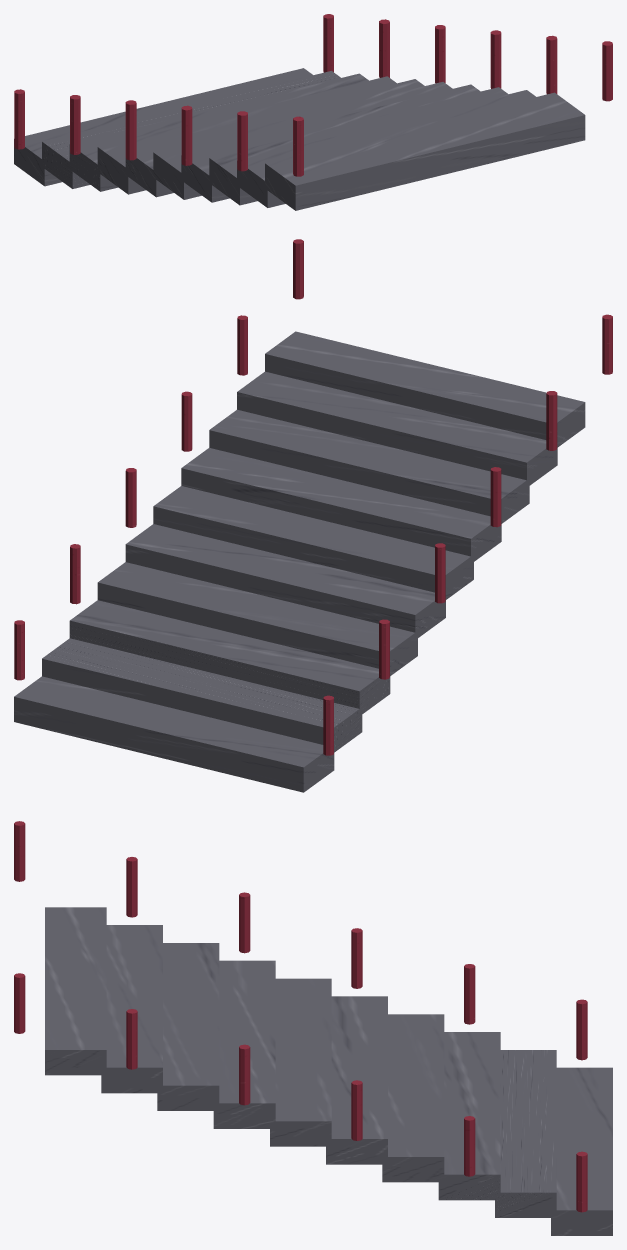
Rendered from shogun_stone_stairway_lod0.glb.
3 views of the same model, one above another, from view 1: azimuth 30°, elevation 25°; view 2: azimuth 150°, elevation 25°; view 3: azimuth 270°, elevation 25° (orthographic).
Visible parts, largest first — view 1: shogun_stone_stairway_009, shogun_stone_stairway_007, shogun_stone_stairway_008, shogun_stone_stairway_002, shogun_stone_stairway_001, shogun_stone_stairway_005, shogun_stone_stairway_003, shogun_stone_stairway_006, shogun_stone_stairway_000, shogun_stone_stairway_004, shogun_stone_stairway_012, shogun_stone_stairway_013 (+10 smaller); view 2: shogun_stone_stairway_000, shogun_stone_stairway_009, shogun_stone_stairway_006, shogun_stone_stairway_002, shogun_stone_stairway_008, shogun_stone_stairway_004, shogun_stone_stairway_001, shogun_stone_stairway_007, shogun_stone_stairway_005, shogun_stone_stairway_003; view 3: shogun_stone_stairway_009, shogun_stone_stairway_003, shogun_stone_stairway_005, shogun_stone_stairway_007, shogun_stone_stairway_001, shogun_stone_stairway_000, shogun_stone_stairway_004, shogun_stone_stairway_008, shogun_stone_stairway_006, shogun_stone_stairway_002, shogun_stone_stairway_012, shogun_stone_stairway_015 (+10 smaller).
Part boxes in pixels (x1,y1,x2,y2): shogun_stone_stairway_009: (265, 92, 585, 210); shogun_stone_stairway_007: (209, 87, 508, 205); shogun_stone_stairway_008: (237, 90, 535, 207); shogun_stone_stairway_002: (69, 73, 368, 191); shogun_stone_stairway_001: (42, 71, 340, 188); shogun_stone_stairway_005: (153, 82, 452, 199); shogun_stone_stairway_003: (97, 76, 396, 194); shogun_stone_stairway_006: (181, 84, 480, 202); shogun_stone_stairway_000: (14, 68, 312, 186); shogun_stone_stairway_004: (125, 79, 424, 197); shogun_stone_stairway_012: (125, 100, 136, 160); shogun_stone_stairway_013: (181, 105, 192, 165); shogun_stone_stairway_000: (14, 676, 334, 792); shogun_stone_stairway_009: (265, 331, 585, 447); shogun_stone_stairway_006: (181, 447, 501, 563); shogun_stone_stairway_002: (69, 600, 390, 715); shogun_stone_stairway_008: (237, 371, 557, 485); shogun_stone_stairway_004: (125, 524, 445, 637); shogun_stone_stairway_001: (42, 638, 362, 752); shogun_stone_stairway_007: (209, 409, 529, 523); shogun_stone_stairway_005: (153, 486, 473, 599); shogun_stone_stairway_003: (97, 562, 417, 676); shogun_stone_stairway_009: (45, 907, 106, 1075); shogun_stone_stairway_003: (382, 1014, 444, 1182); shogun_stone_stairway_005: (270, 978, 331, 1146); shogun_stone_stairway_007: (157, 943, 219, 1110); shogun_stone_stairway_001: (495, 1050, 556, 1217); shogun_stone_stairway_000: (551, 1067, 612, 1235); shogun_stone_stairway_004: (326, 996, 387, 1164); shogun_stone_stairway_008: (101, 925, 162, 1093); shogun_stone_stairway_006: (213, 960, 275, 1128); shogun_stone_stairway_002: (438, 1032, 500, 1200); shogun_stone_stairway_012: (351, 928, 362, 988); shogun_stone_stairway_015: (14, 821, 25, 881).
Bounding box in the file's own units: 6.6 × 5.2 × 10.65.
2 materials, 2 textured.
